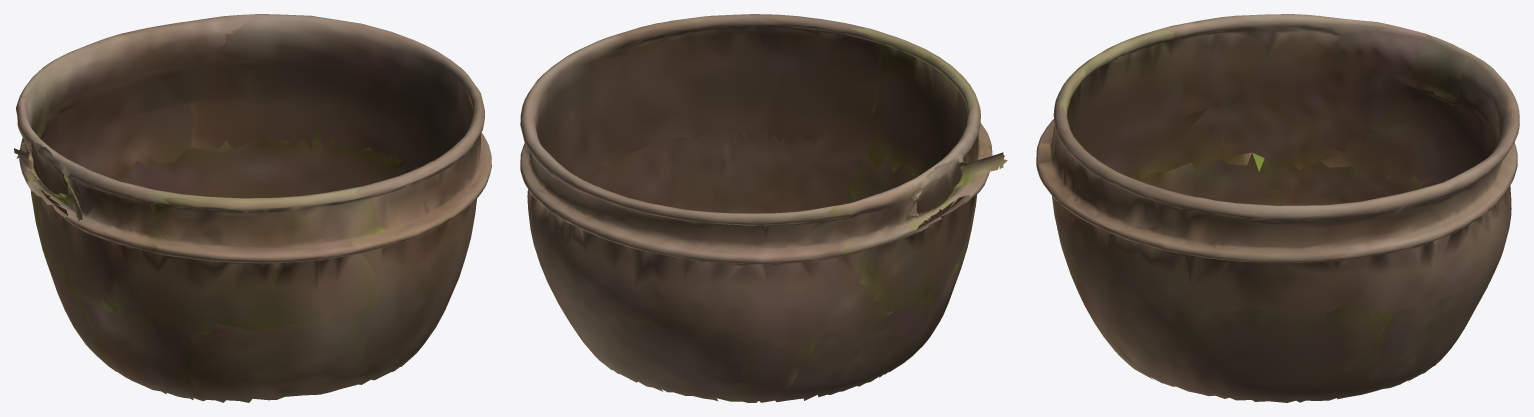
Rendered from d_stew_bowl.glb.
3 views of the same model, side by side, from view 1: azimuth 30°, elevation 25°; view 2: azimuth 150°, elevation 25°; view 3: azimuth 270°, elevation 25° (orthographic).
Bounding box in the file's own units: 0.3037 × 0.1589 × 0.3046.
1 material, 1 textured.
